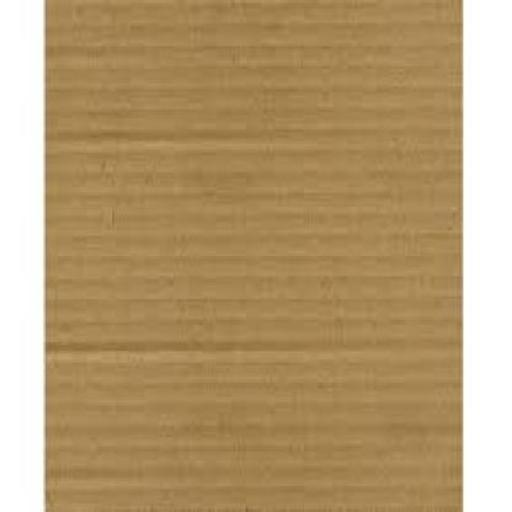cardboard: (44, 0, 460, 510)
